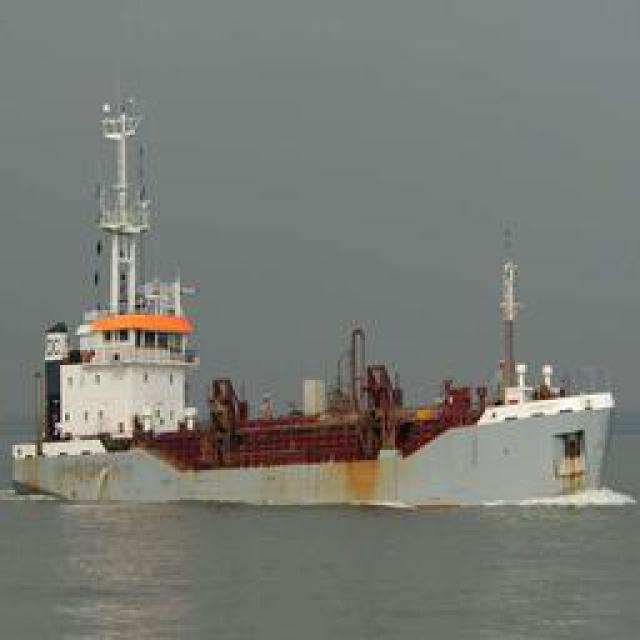Ship: (7, 66, 640, 521)
